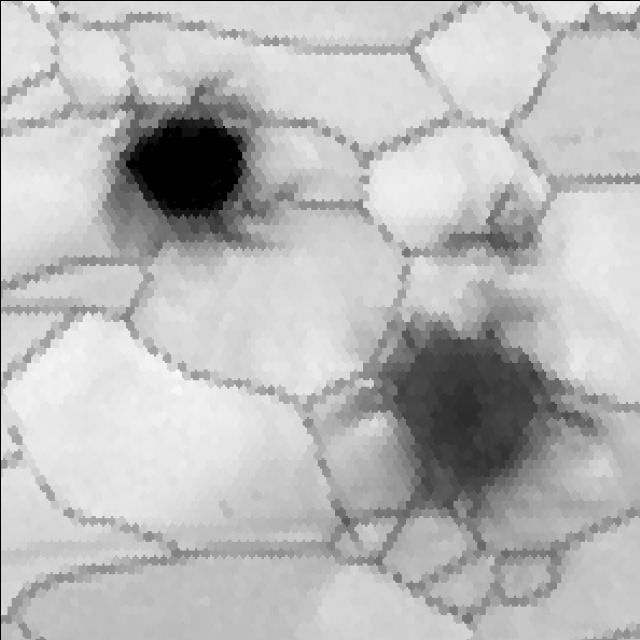good_void: (313, 284, 606, 519), (94, 83, 309, 262), (438, 181, 561, 275), (214, 495, 240, 525)
